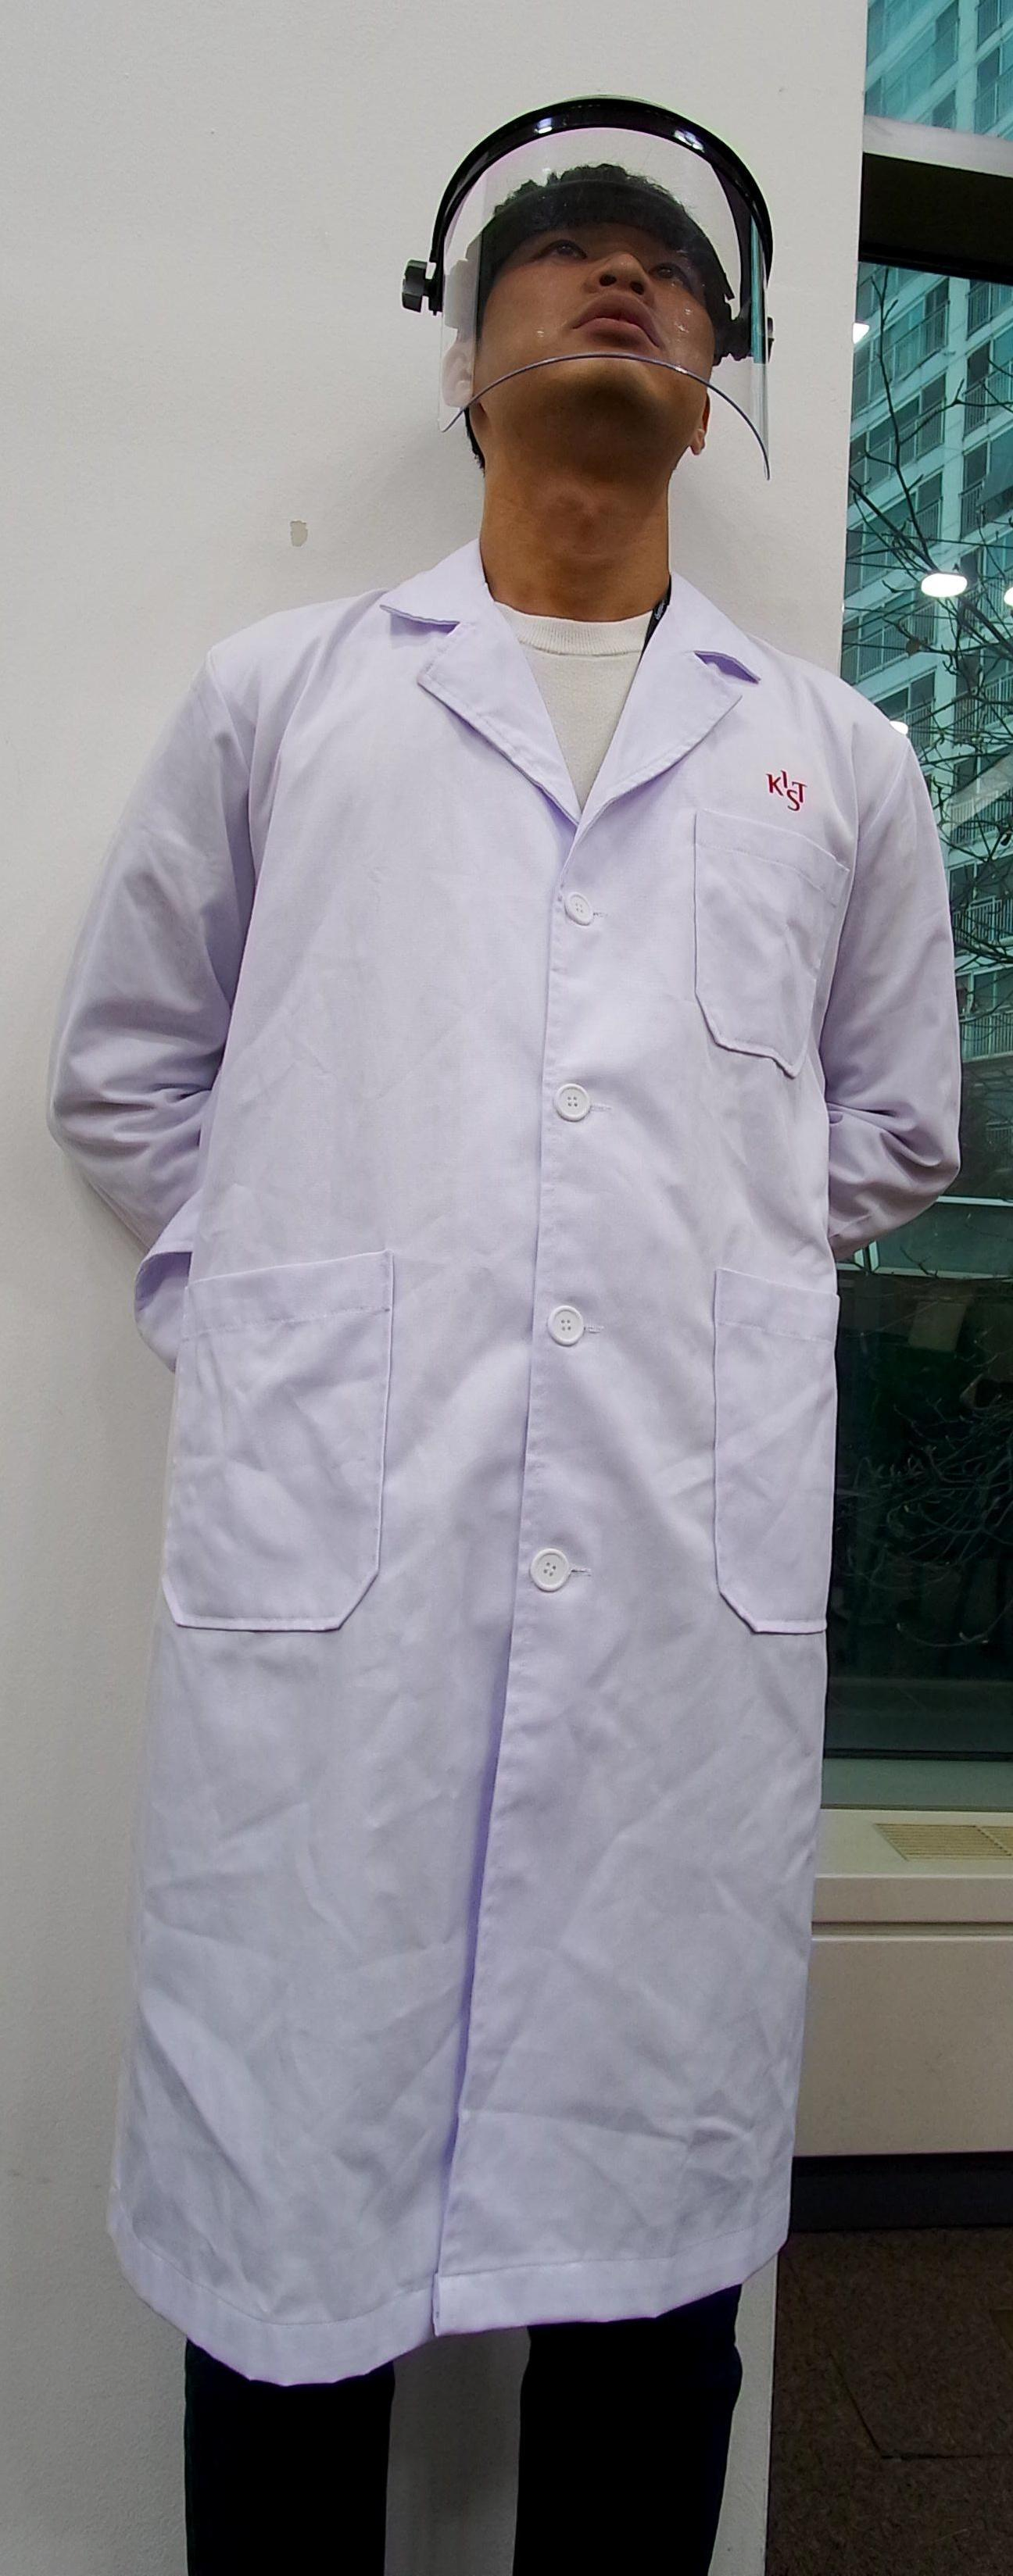lab_coat: (160, 642, 853, 2328)
